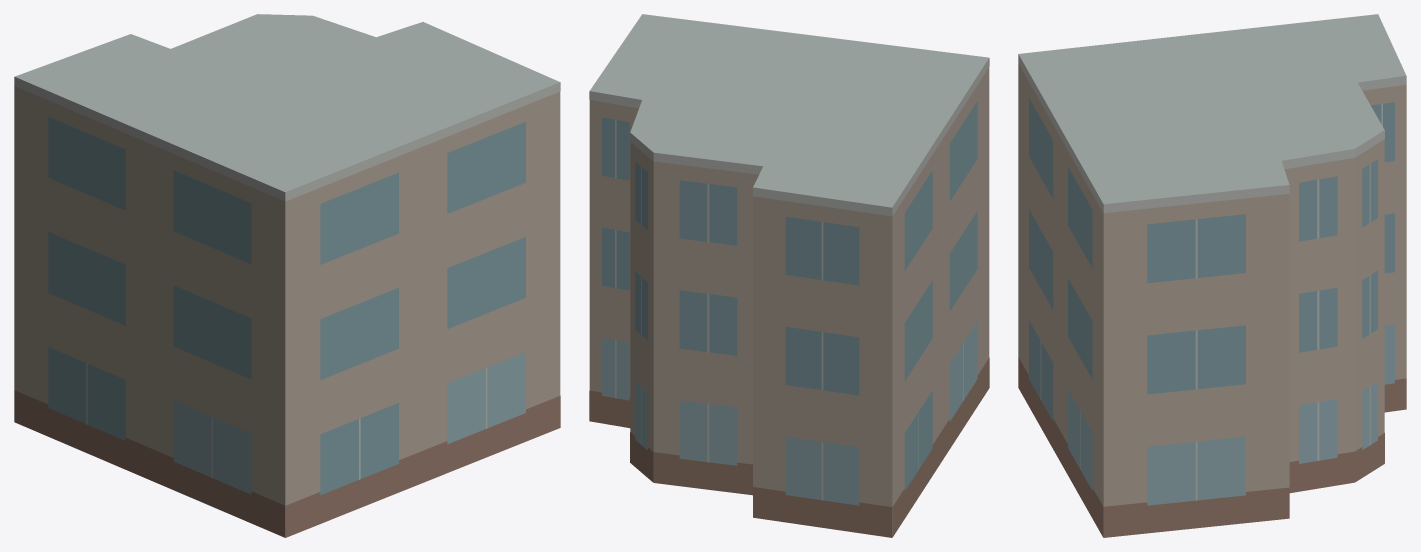
File: survey-upis-32646195.glb
The picture shows the model from 3 angles, left to right: view 1: azimuth 30°, elevation 25°; view 2: azimuth 150°, elevation 25°; view 3: azimuth 270°, elevation 25°; orthographic projection. The views are drawn at different scales.
Visible parts, largest first — view 1: survey-upis-32646195.tmp; view 2: survey-upis-32646195.tmp; view 3: survey-upis-32646195.tmp.
Boxes of the visible parts, box(x1,y1,x2,y2) form: survey-upis-32646195.tmp: box(14, 14, 560, 537); survey-upis-32646195.tmp: box(589, 14, 989, 537); survey-upis-32646195.tmp: box(1018, 14, 1406, 537).
Size of the model in its own units: 11.2 by 9.15 by 9.66.
